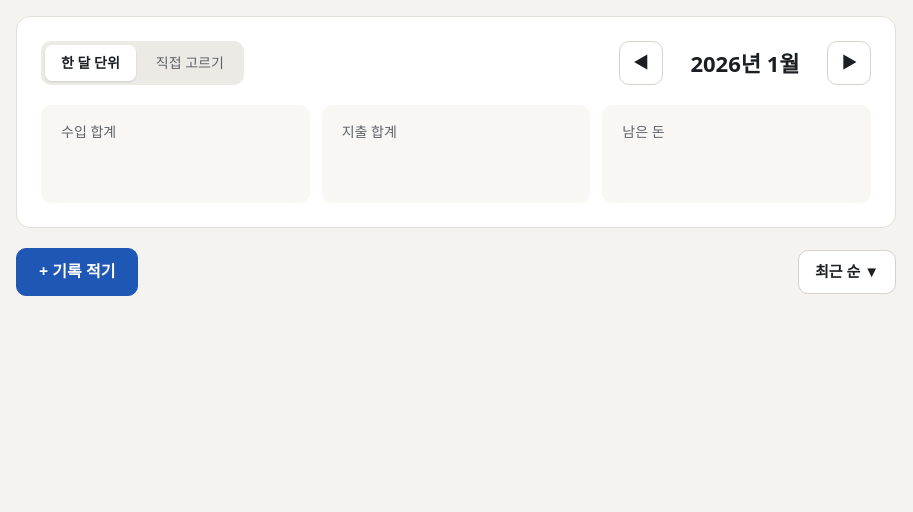
Scenario: T-413 앞뒤 달과 한 달 단위로 돌아오기 › 2026년 1월에서 ◀ → 2025년 12월
Step 1. Click the button named "이전 달" → point(641, 63), box left=619, top=41, right=663, bottom=85
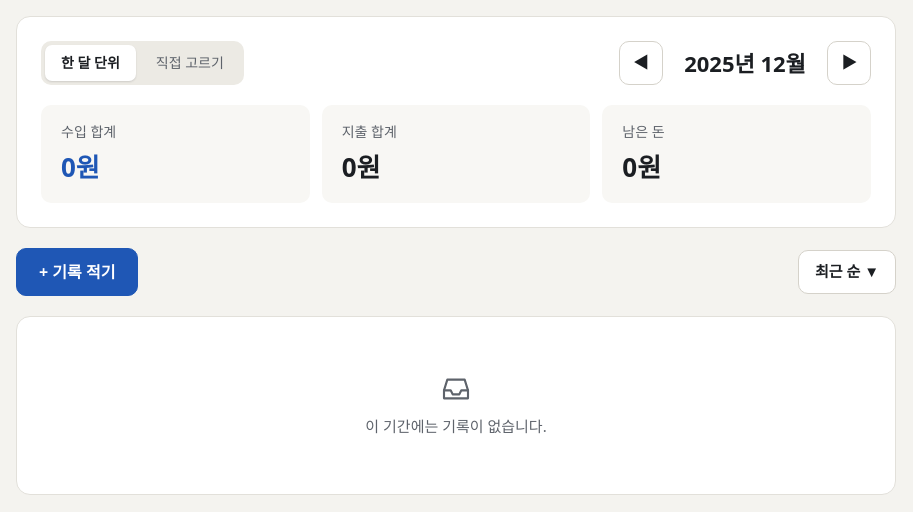
Expected: the text "2025년 12월" is shown, left=684, top=48, right=806, bottom=78
